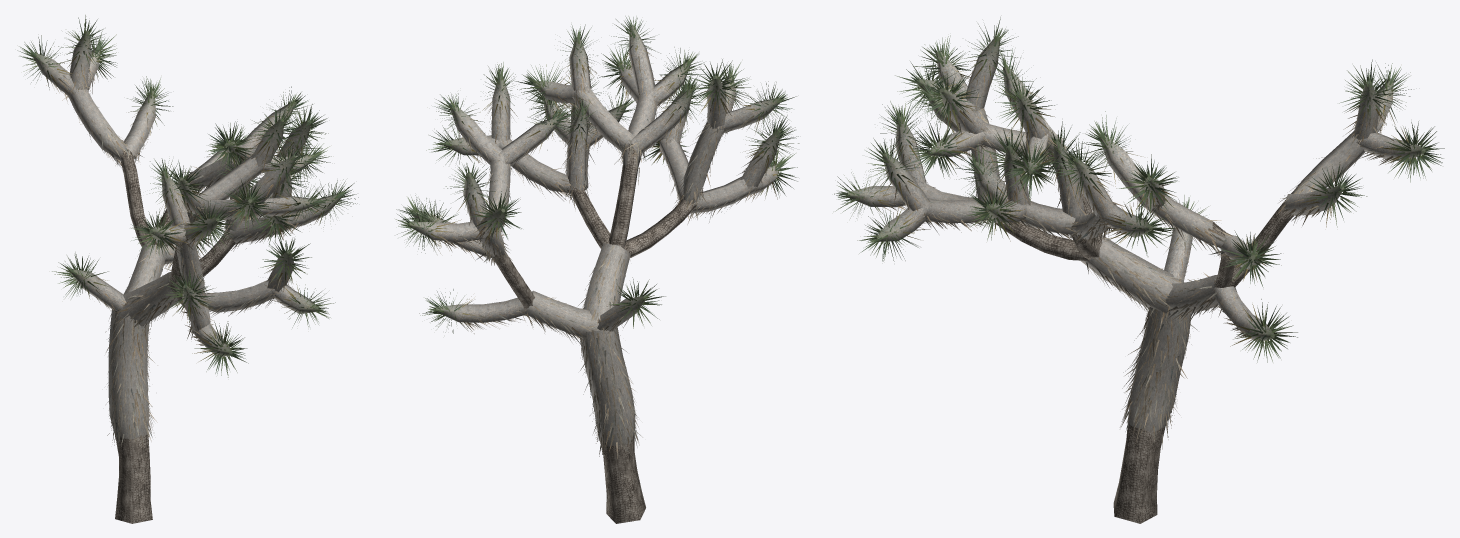
Rendered from joshua_c_lod1.glb.
3 views of the same model, side by side, from view 1: azimuth 30°, elevation 25°; view 2: azimuth 150°, elevation 25°; view 3: azimuth 270°, elevation 25° (orthographic). The views are drawn at different scales.
Parts seen in each view (by area): view 1: joshua_c_lod1; view 2: joshua_c_lod1; view 3: joshua_c_lod1.
Part boxes in pixels (x1,y1,x2,y2): joshua_c_lod1: (17, 15, 358, 523); joshua_c_lod1: (395, 16, 799, 523); joshua_c_lod1: (834, 17, 1444, 523).
Bounding box in the file's own units: 4.63 × 7 × 7.83.
3 materials, 3 textured.
